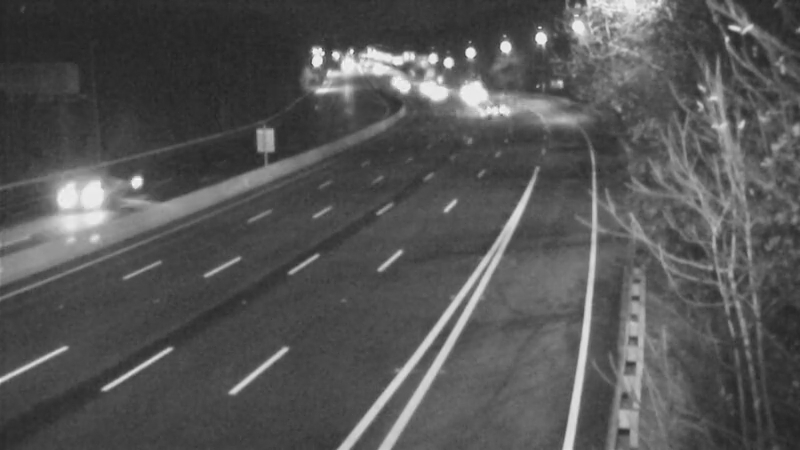vehicle: (42, 159, 122, 239), (401, 64, 451, 114), (448, 66, 498, 116), (411, 70, 461, 120), (462, 87, 512, 137)
